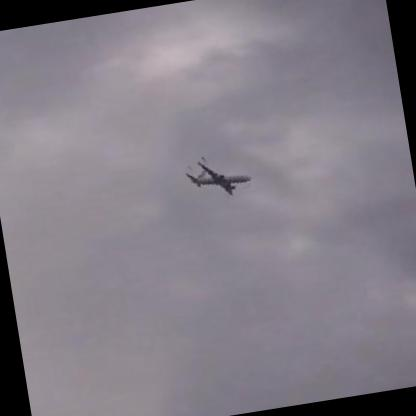plane: (181, 146, 254, 211)
